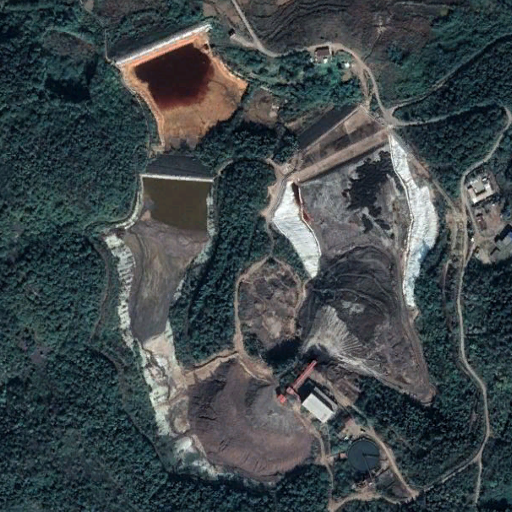tp: (111, 22, 442, 477)
